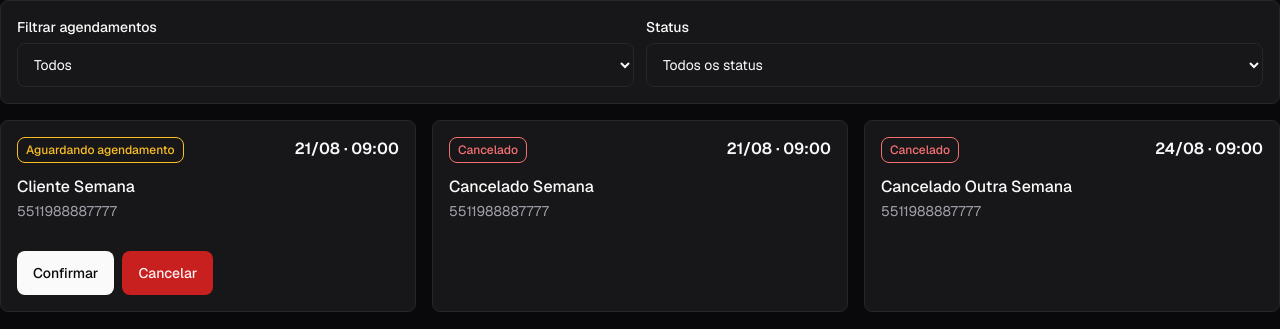
Test: AppointmentList › combina filtro de semana com filtro de status
This screenshot has width=1280, height=329.
Select "Semana" in the dropdown labelled "Filtrar agendamentos" at x=326, y=65, box [17, 43, 634, 87]
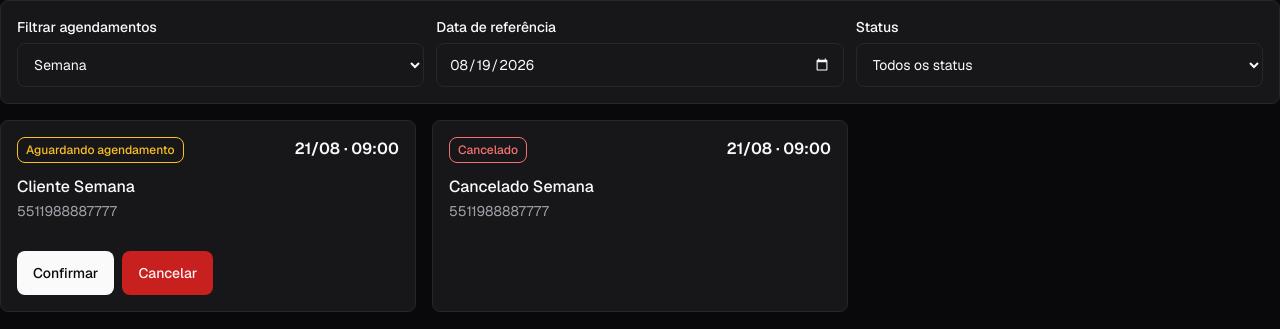
Type "2026-08-21" into the date field labelled "Data de referência" at x=640, y=65, box [436, 43, 844, 87]
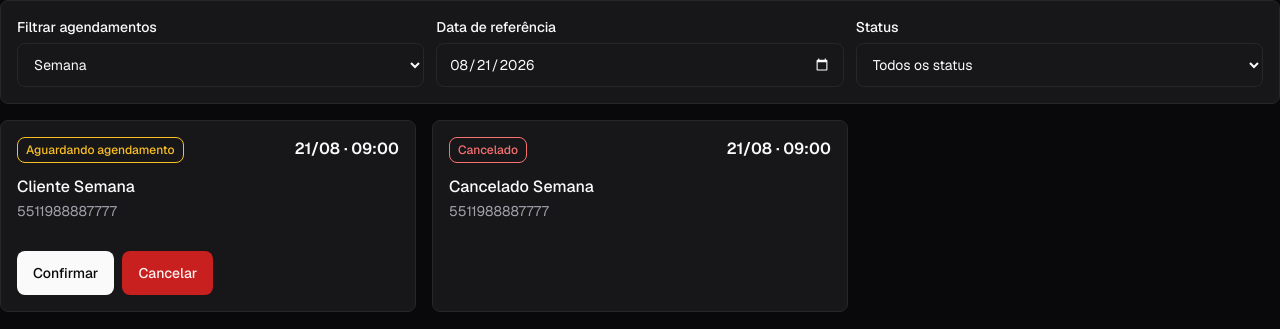
Select "Cancelado" in the dropdown labelled "Status" at x=1059, y=65, box [856, 43, 1263, 87]
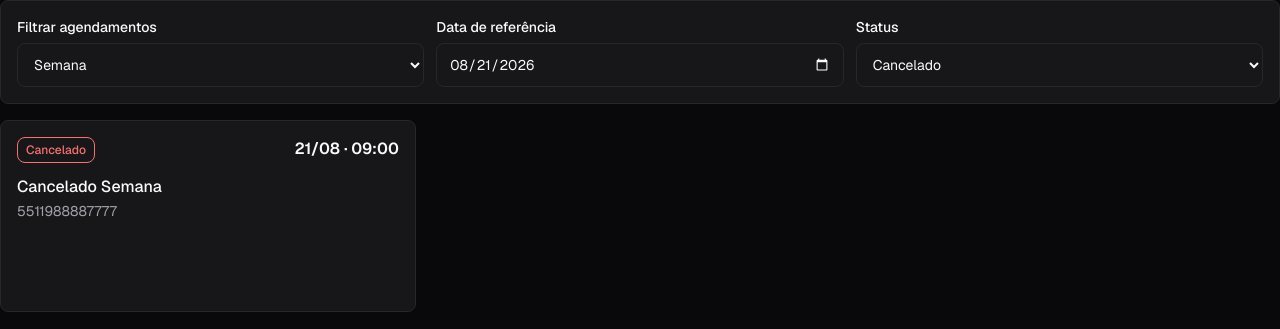
Expected: the element "Cancelado Semana" is shown, [0, 120, 416, 312]
Expected: the heading "Cliente Semana" is gone
